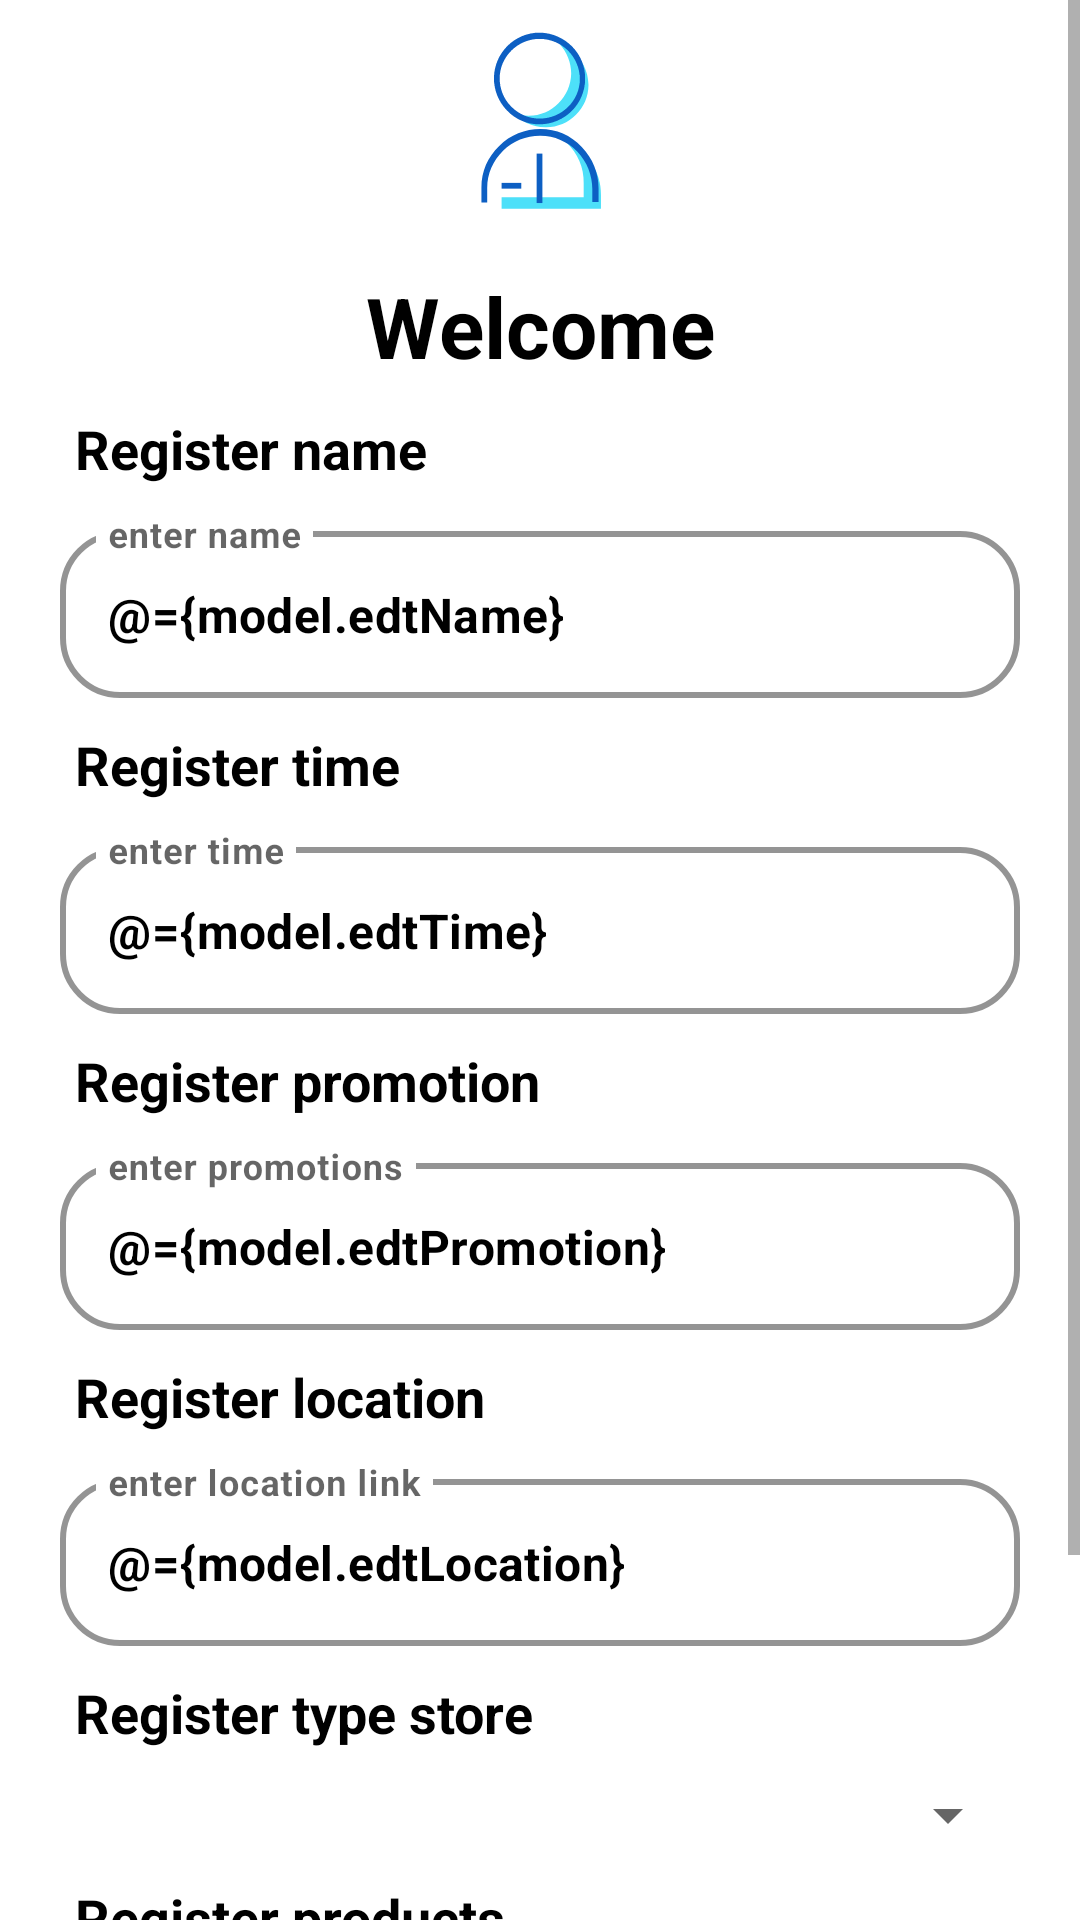

Screen size 1080 × 1920. Icon name, then its box in pixels as (x1, y1, x2, y2):
manager: (481, 32, 601, 209)
